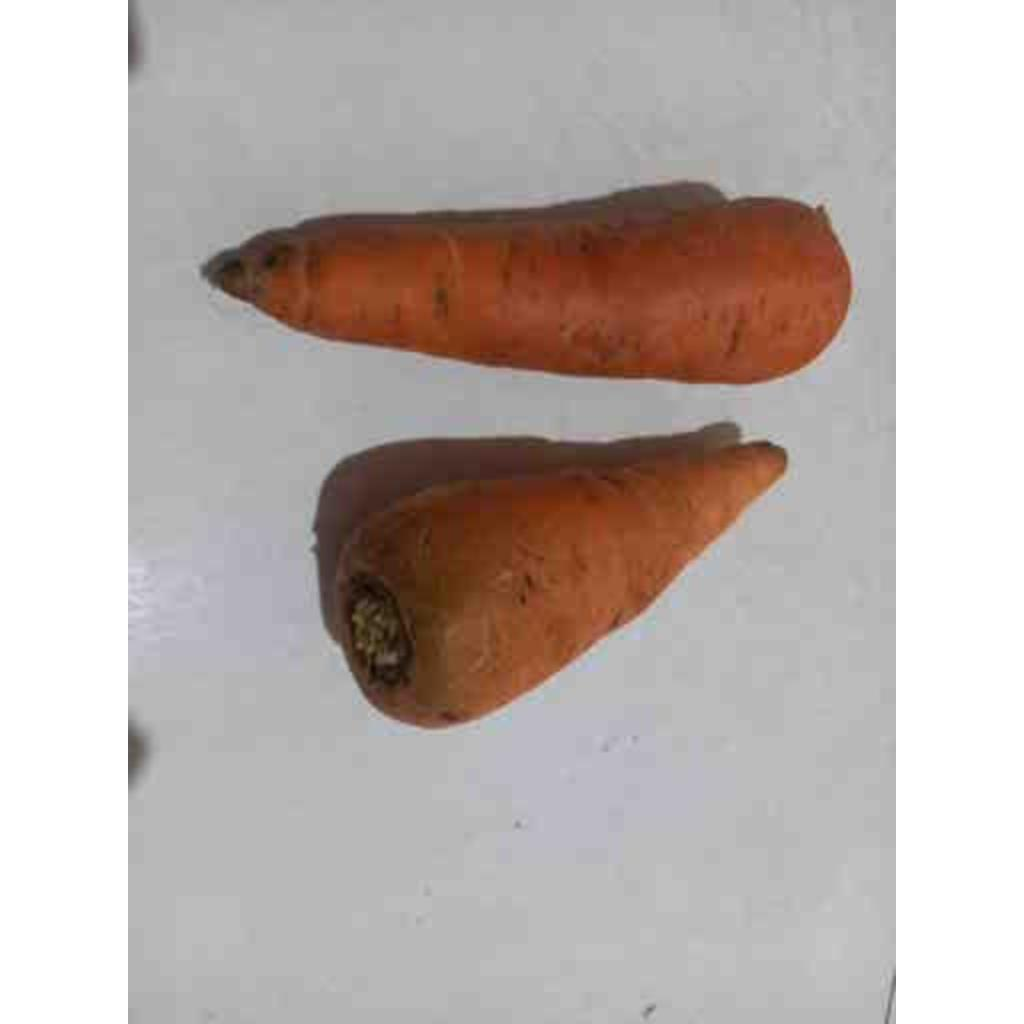carrot: (334, 442, 786, 730), (202, 198, 850, 383)
